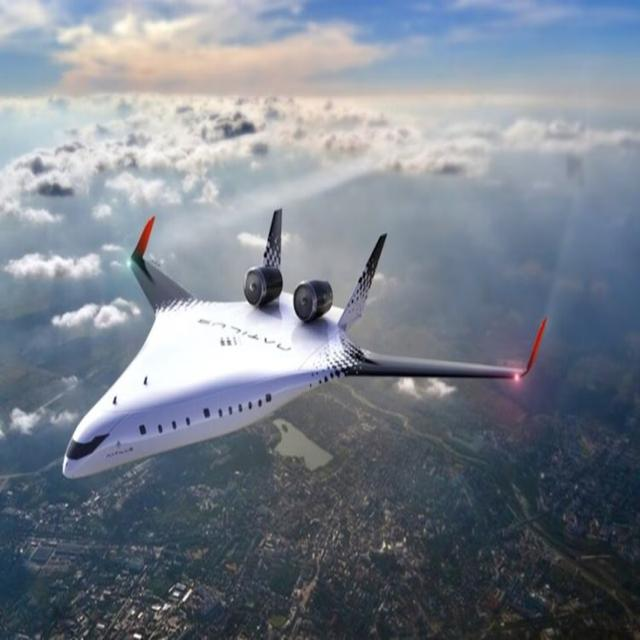aircraft: (9, 133, 574, 552)
